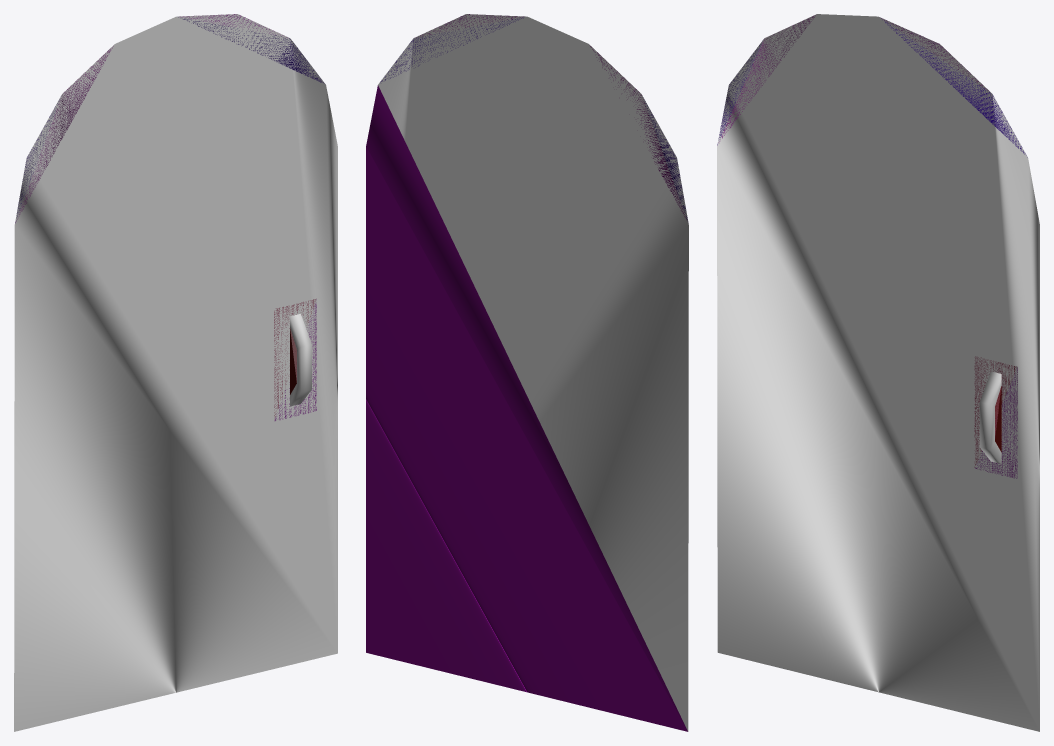
3 views of the same model, side by side, from view 1: azimuth 30°, elevation 25°; view 2: azimuth 150°, elevation 25°; view 3: azimuth 330°, elevation 25° (orthographic).
Bounding box in the file's own units: 0.475 × 0.95 × 0.0317.
